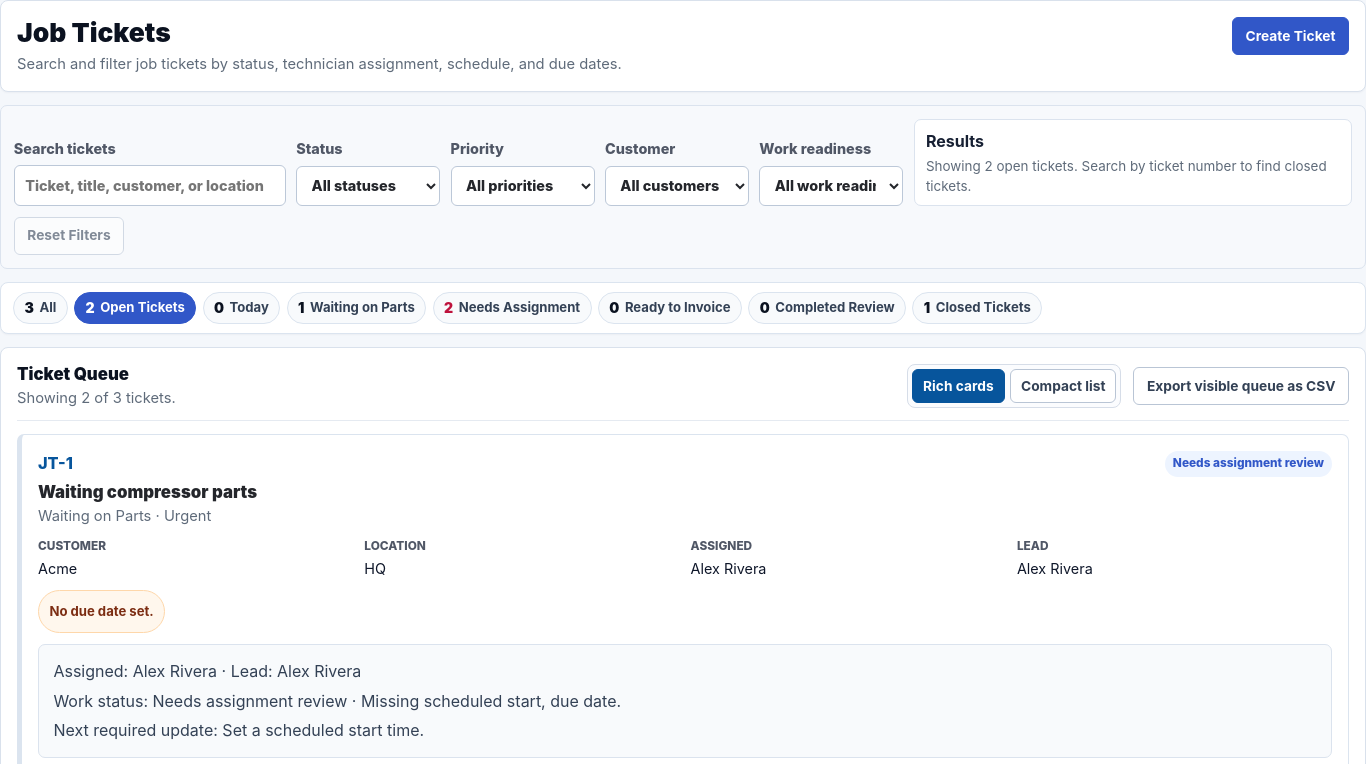
Scenario: Manager list pages › defaults to open tickets and positions KPI cards after filter controls
Expected: the link "JT-1" is shown, left=38, top=453, right=73, bottom=473
Expected: the text "JT-3" is not shown
Note: Waiting on Parts KPI card filters to JT-1
Click the button "1 Waiting on Parts" at (356, 308), box left=287, top=292, right=426, bottom=324
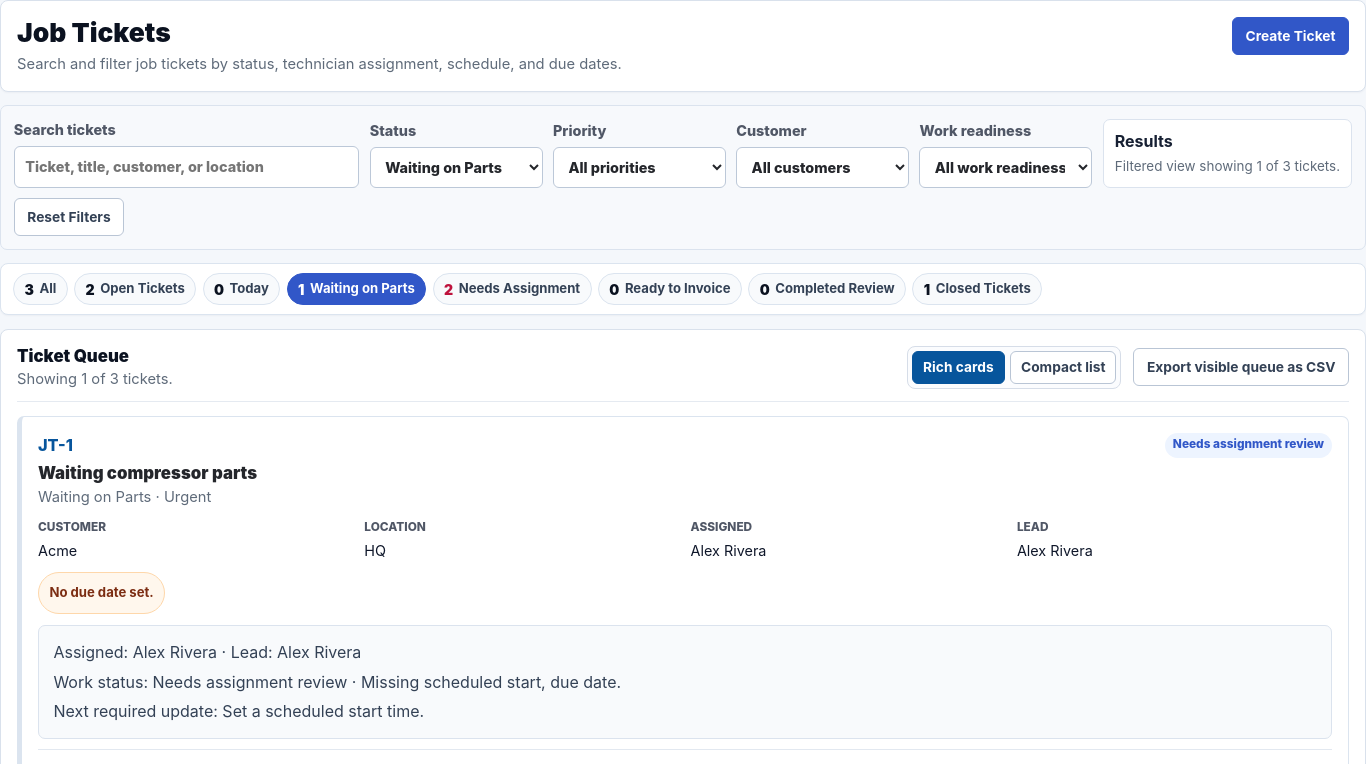
Expected: the link "JT-1" is shown, left=38, top=434, right=73, bottom=454
Expected: the text "Filtered view showing 1 of 3 tickets." is shown, left=1115, top=156, right=1340, bottom=177
Expected: the dropdown labelled "Status" shows "Waiting on Parts", left=370, top=147, right=543, bottom=188
Click the button "1 Closed Tickets" at (977, 289), box left=912, top=273, right=1042, bottom=305
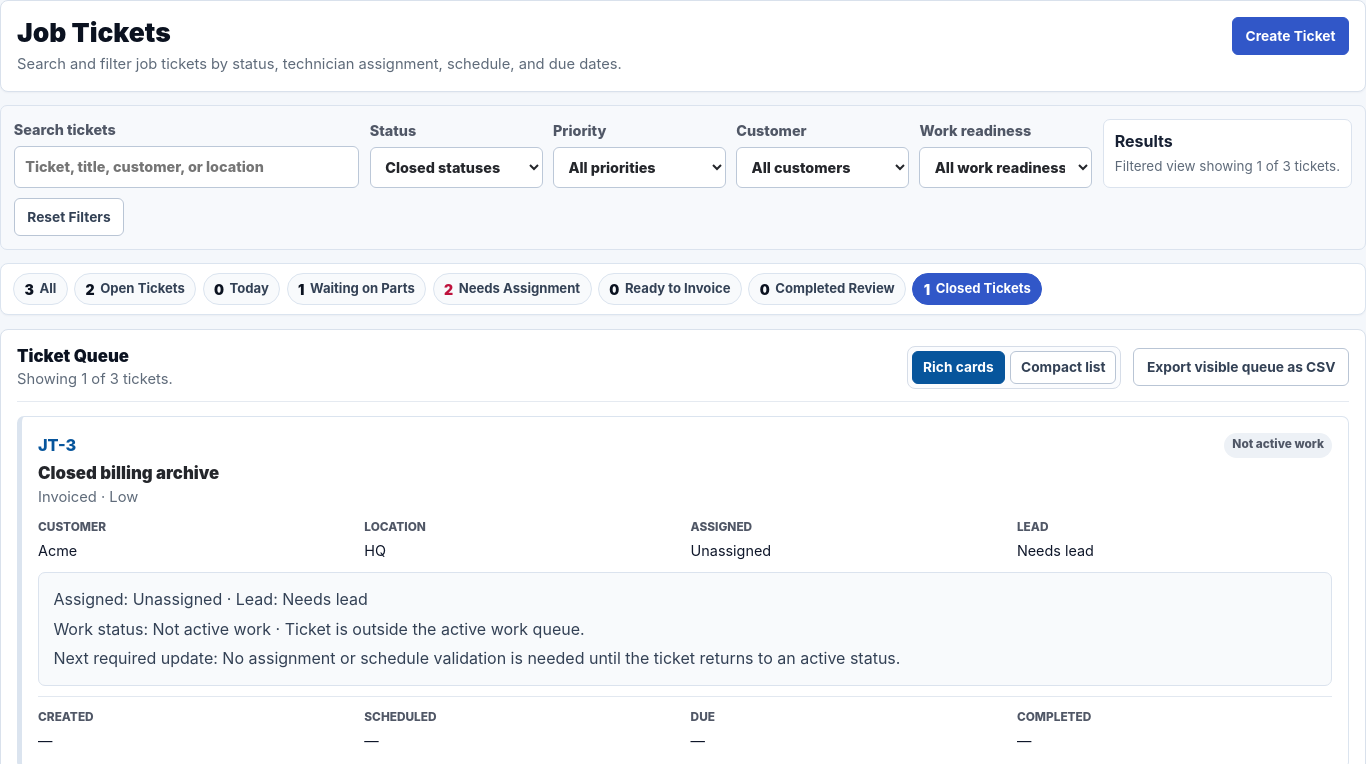
Expected: the text "Filtered view showing 1 of 3 tickets." is shown, left=1115, top=156, right=1340, bottom=177
Expected: the link "JT-1" is gone
Expected: the link "JT-3" is shown, left=38, top=434, right=76, bottom=454
